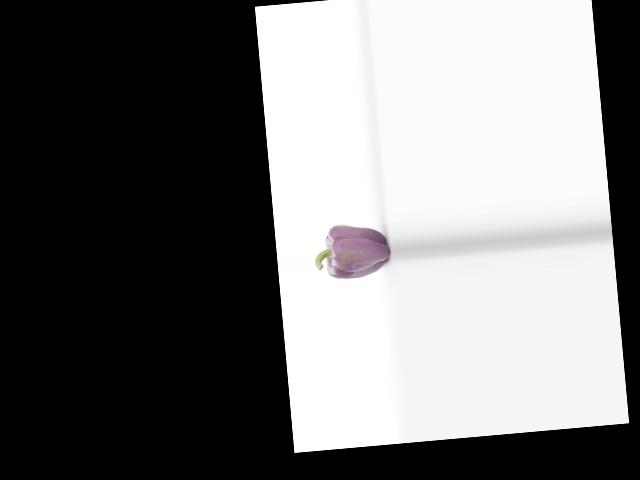bell_pepper: (312, 216, 391, 287)
